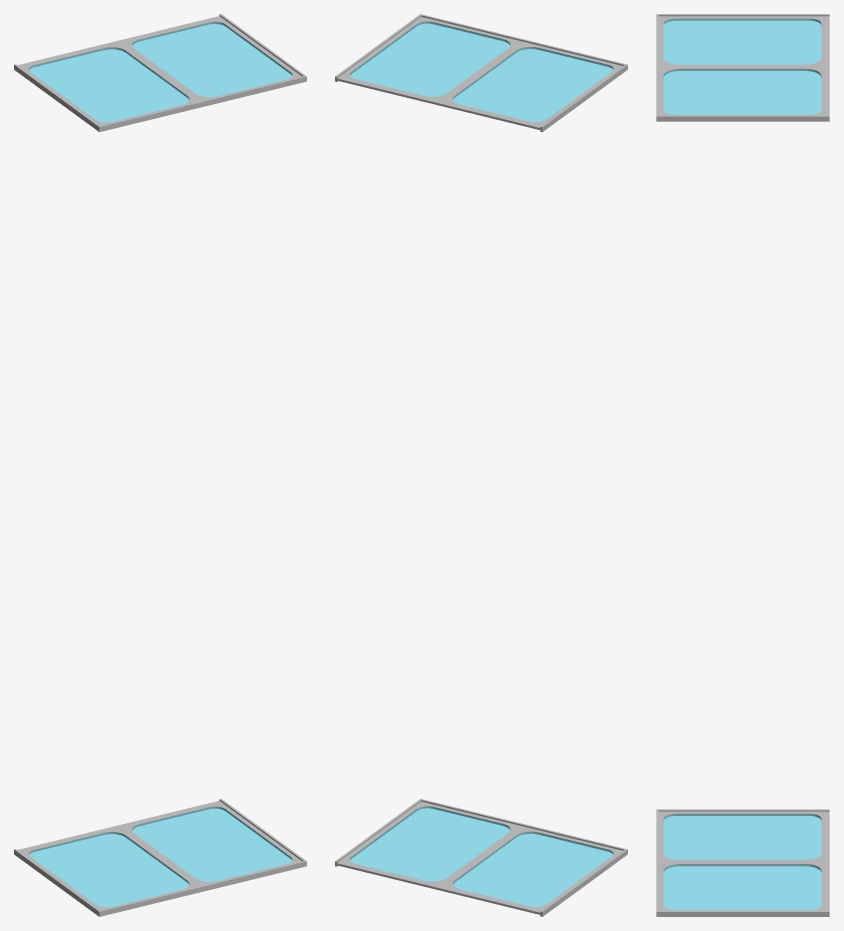
The picture shows the model from 3 angles, left to right: view 1: azimuth 30°, elevation 25°; view 2: azimuth 150°, elevation 25°; view 3: azimuth 270°, elevation 25°; orthographic projection.
Parts seen in each view (by area): view 1: 0_3_1_1_1; view 2: 0_3_1_1_1; view 3: 0_3_1_1_1.
Part boxes in pixels (left/top/right/bottom): 0_3_1_1_1: left=14, top=14, right=306, bottom=916; 0_3_1_1_1: left=335, top=14, right=627, bottom=916; 0_3_1_1_1: left=656, top=14, right=829, bottom=916.
Bounding box in the file's own units: 3 × 10.91 × 2.14.
